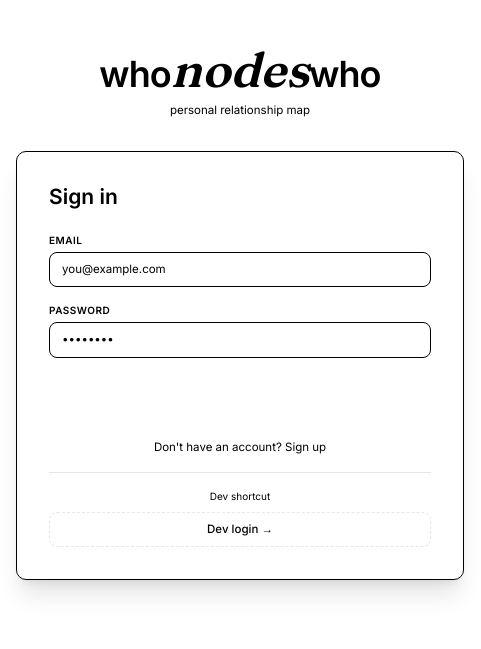
LoginPage › toggles to sign up mode
Step 1. Click the button "Don't have an account? Sign up" → coordinates (240, 447), box top-left (49, 439), bottom-right (431, 456)
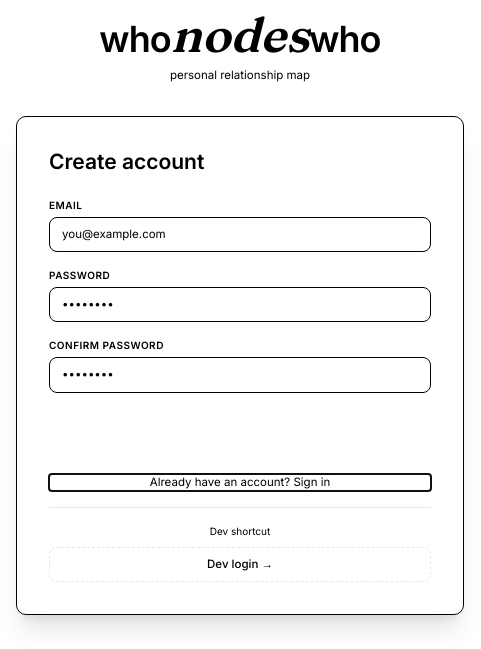
Check: the heading "Create account" is shown, box top-left (49, 149), bottom-right (204, 174)
Check: the password field labelled "Confirm Password" is shown, box top-left (49, 358), bottom-right (431, 393)
